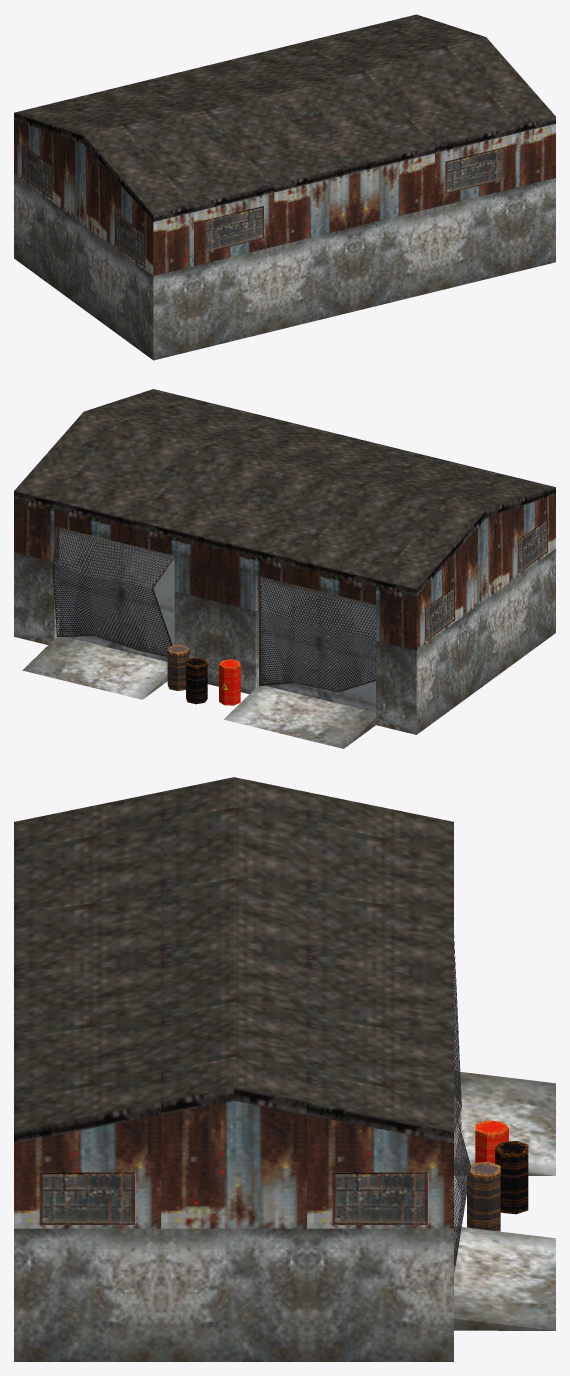
Rendered from ps1_old_warehouse.glb.
3 renders of one model, top to bottom at view 1: azimuth 30°, elevation 25°; view 2: azimuth 150°, elevation 25°; view 3: azimuth 270°, elevation 25°, orthographic. The views are drawn at different scales.
Parts seen in each view (by area): view 1: oldWarehouse; view 2: oldWarehouse, gate_Opacity, Flammable_barrel_001, Barrel_001, Barrel2_001; view 3: oldWarehouse, gate_Opacity, Barrel2_001, Barrel_001, Flammable_barrel_001.
Part boxes in pixels (x1=…): oldWarehouse: x1=14, y1=14, x2=555, y2=360; oldWarehouse: x1=14, y1=389, x2=555, y2=748; gate_Opacity: x1=52, y1=527, x2=375, y2=692; Flammable_barrel_001: x1=219, y1=659, x2=240, y2=705; Barrel_001: x1=186, y1=658, x2=207, y2=704; Barrel2_001: x1=167, y1=644, x2=189, y2=691; oldWarehouse: x1=14, y1=777, x2=555, y2=1361; gate_Opacity: x1=454, y1=935, x2=470, y2=1273; Barrel2_001: x1=467, y1=1161, x2=500, y2=1231; Barrel_001: x1=495, y1=1141, x2=528, y2=1214; Flammable_barrel_001: x1=475, y1=1120, x2=508, y2=1163.
Size of what is drawn, in the model's own units: 10 by 4.14 by 7.39.
3 materials, 3 textured.
